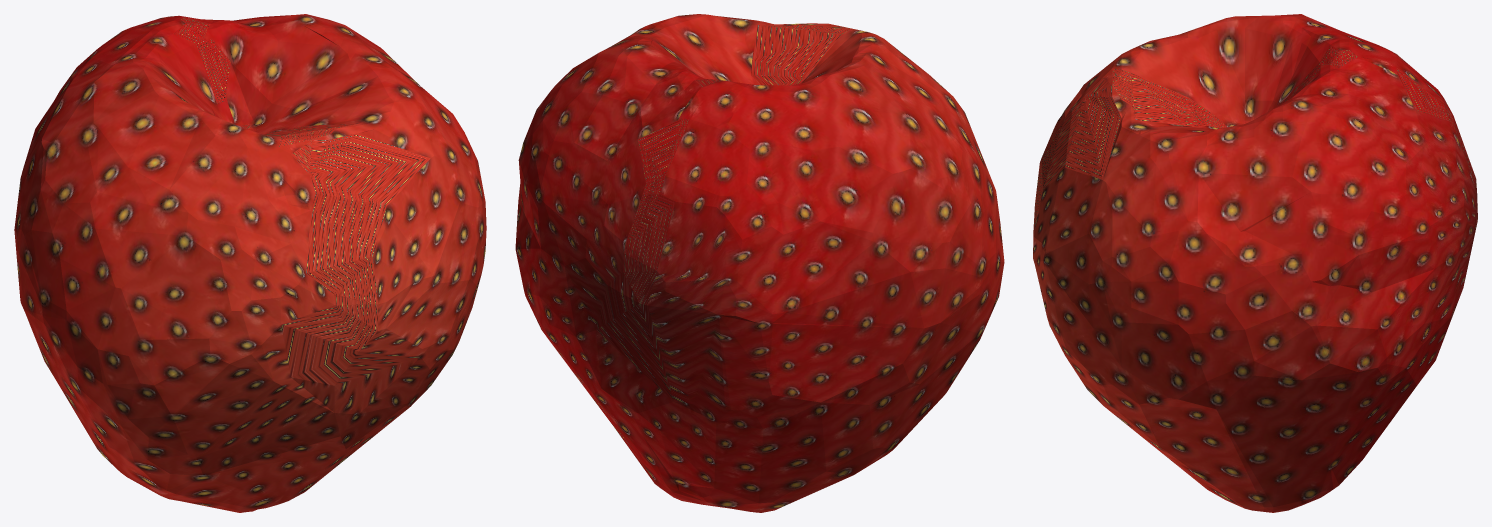
The picture shows the model from 3 angles, left to right: view 1: azimuth 30°, elevation 25°; view 2: azimuth 150°, elevation 25°; view 3: azimuth 270°, elevation 25°; orthographic projection. The views are drawn at different scales.
Visible parts, largest first — view 1: _000_Meshed; view 2: _000_Meshed; view 3: _000_Meshed.
Boxes of the visible parts, box(x1,y1,x2,y2) form: _000_Meshed: box(14, 14, 486, 512); _000_Meshed: box(515, 14, 1004, 512); _000_Meshed: box(1033, 14, 1477, 512).
Bounding box in the file's own units: 0.1127 × 0.1062 × 0.1159.
1 material, 1 textured.
